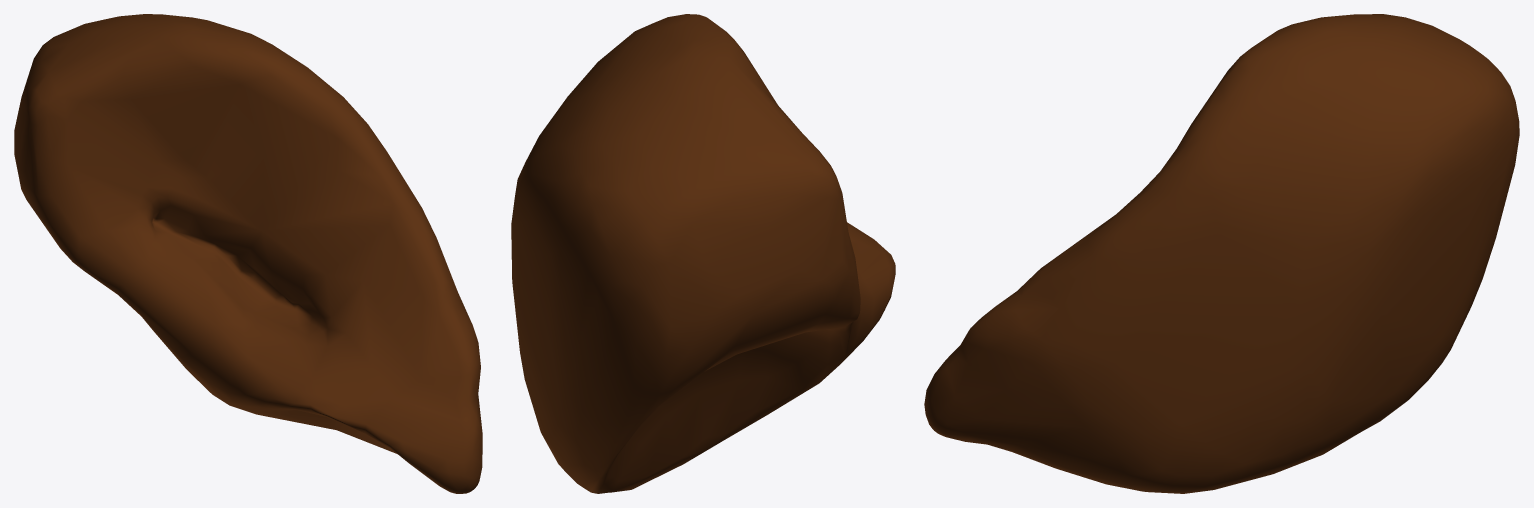
File: Bazo.fbx
3 renders of one model, left to right at view 1: azimuth 30°, elevation 25°; view 2: azimuth 150°, elevation 25°; view 3: azimuth 270°, elevation 25°, orthographic. The views are drawn at different scales.
Parts seen in each view (by area): view 1: Bazo; view 2: Bazo; view 3: Bazo.
Part boxes in pixels (bbox=[...]): Bazo: bbox=[14, 14, 482, 493]; Bazo: bbox=[511, 14, 895, 493]; Bazo: bbox=[924, 14, 1519, 493].
Size of the model in its own units: 5.82 by 7.02 by 9.51.
